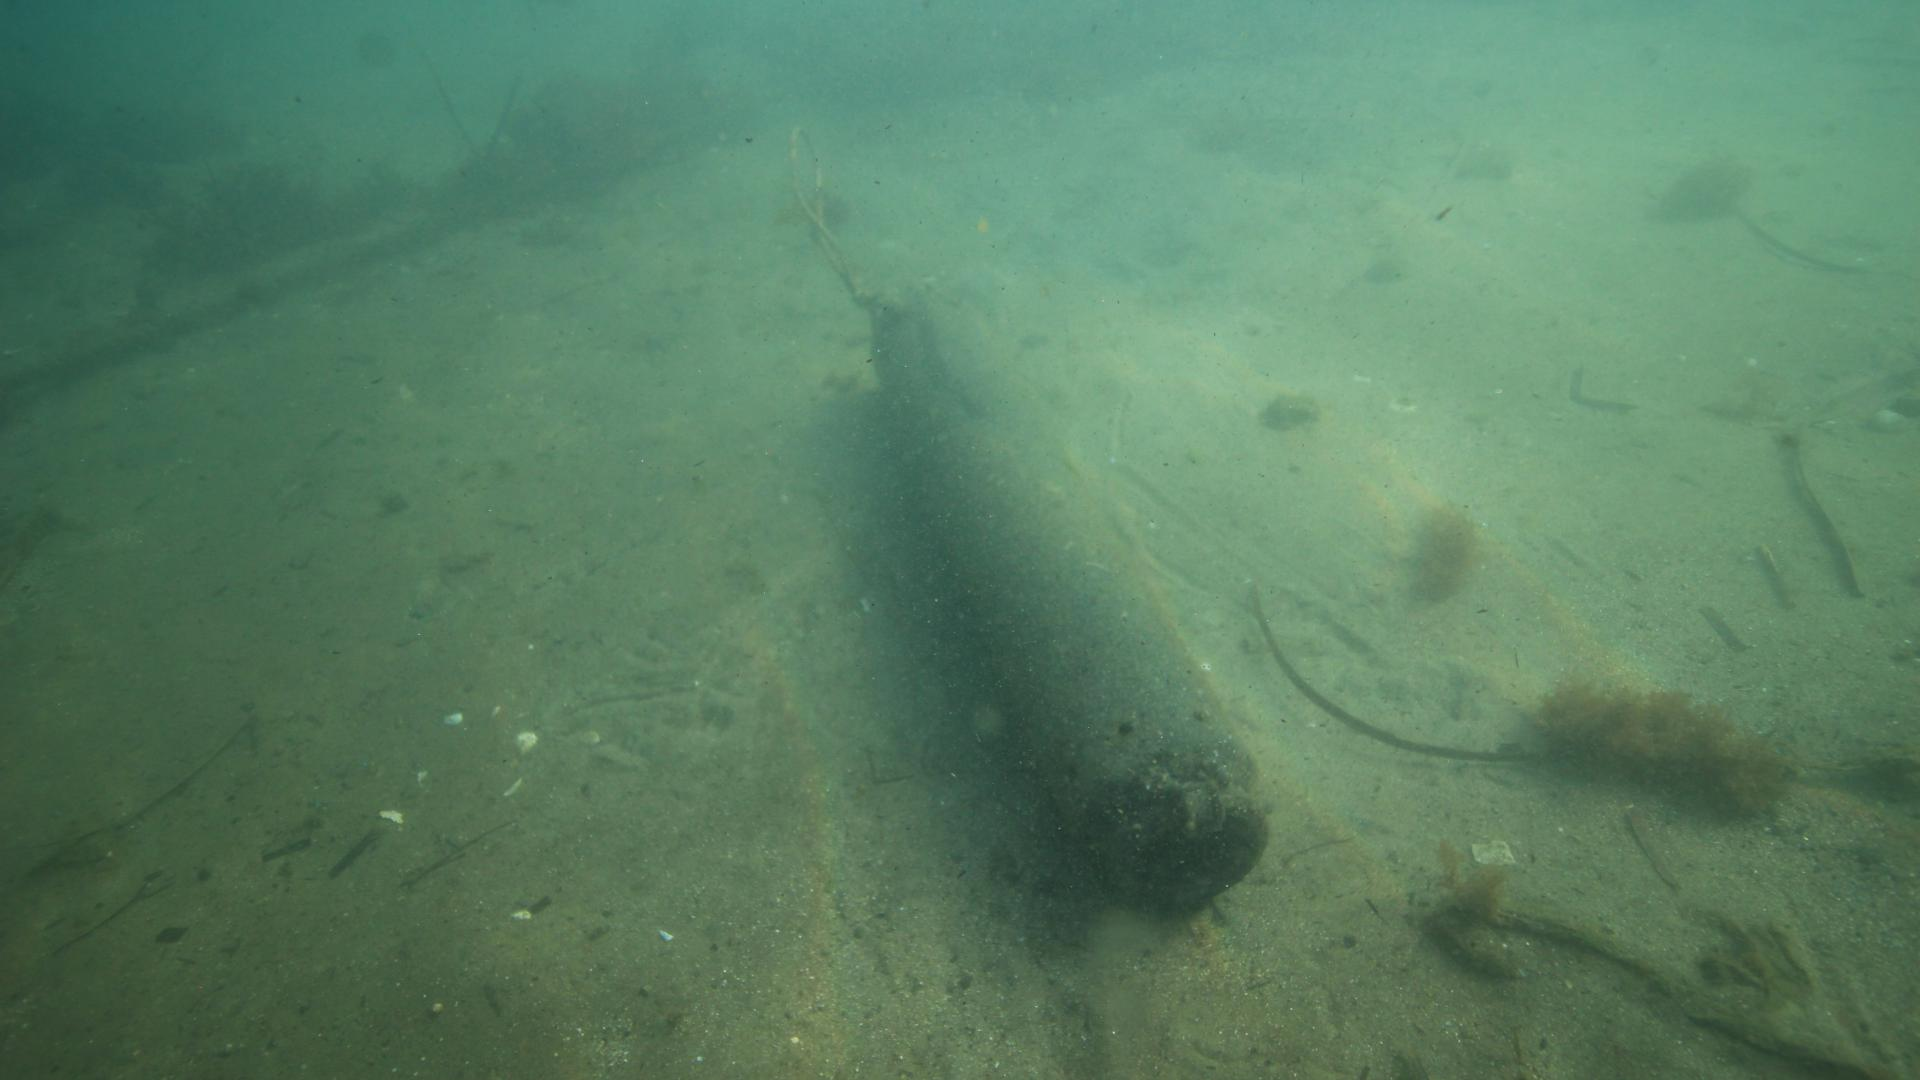bundle of ropes: (789, 125, 890, 314)
eel fish trap: (868, 286, 1270, 910)
